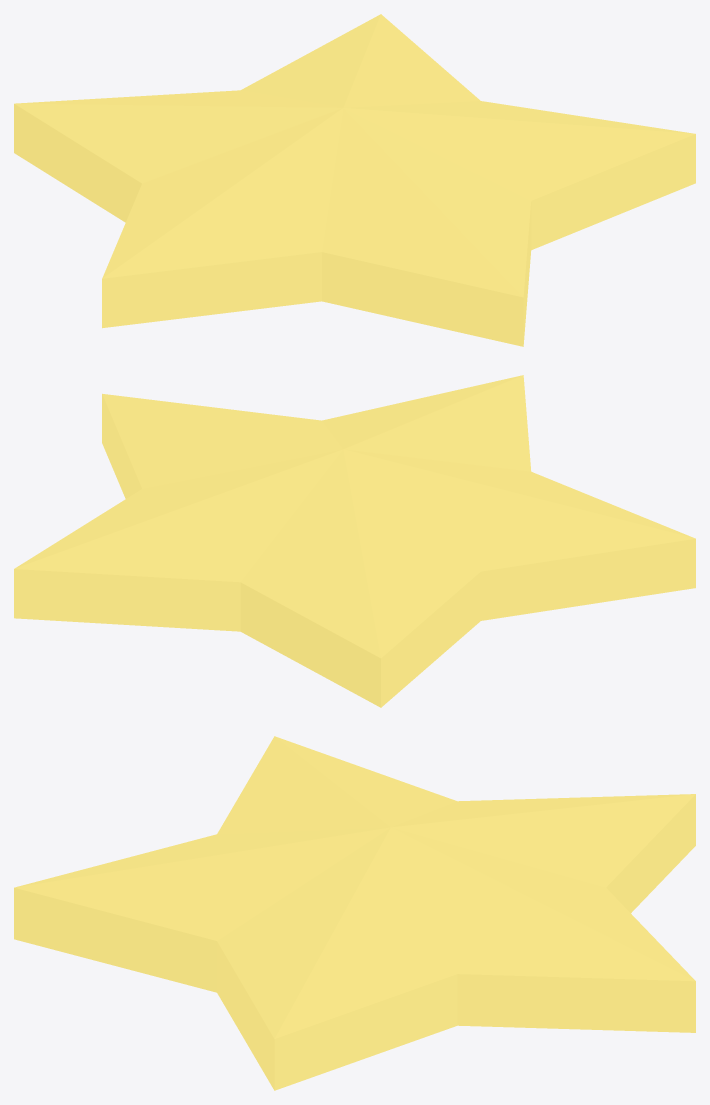
The model's file is twoStar.glb.
3 renders of one model, top to bottom at view 1: azimuth 30°, elevation 25°; view 2: azimuth 150°, elevation 25°; view 3: azimuth 270°, elevation 25°, orthographic. The views are drawn at different scales.
Visible parts, largest first — view 1: Star; view 2: Star; view 3: Star.
Boxes of the visible parts, bbox=[...] form: Star: bbox=[14, 14, 695, 346]; Star: bbox=[14, 375, 695, 707]; Star: bbox=[14, 736, 695, 1090].
Bounding box in the file's own units: 1.9 × 0.5043 × 1.81.
